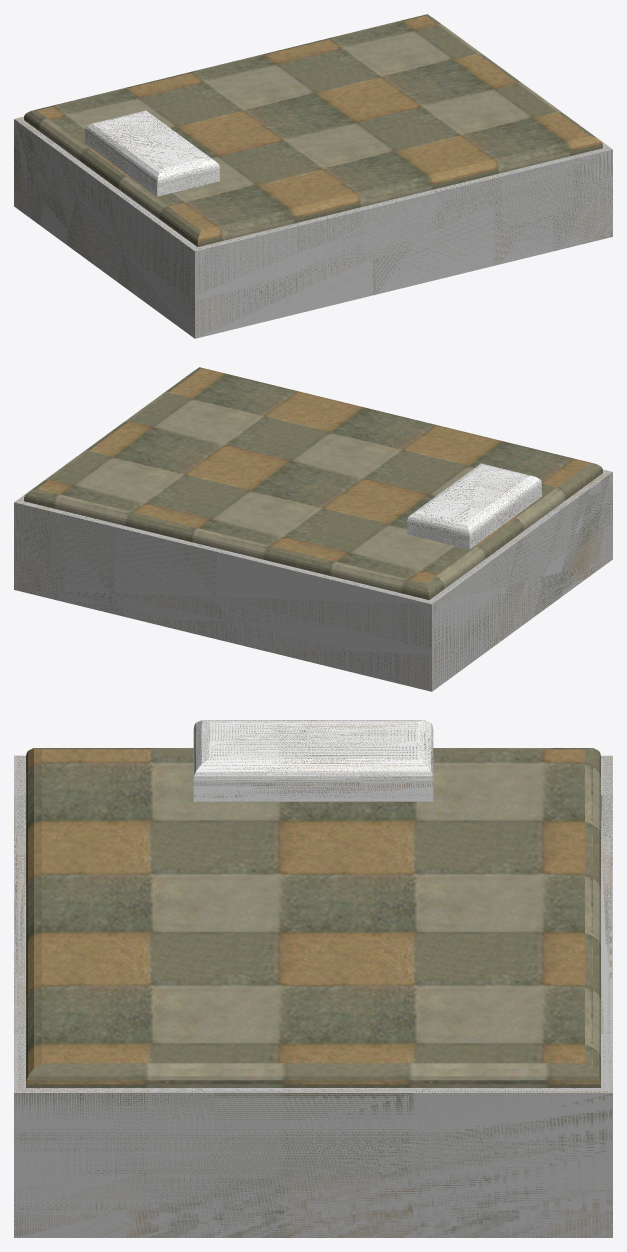
File: bed.dae
3 views of the same model, one above another, from view 1: azimuth 30°, elevation 25°; view 2: azimuth 150°, elevation 25°; view 3: azimuth 270°, elevation 25° (orthographic). The views are drawn at different scales.
Visible parts, largest first — view 1: SketchUp (×3); view 2: SketchUp (×3); view 3: SketchUp (×3).
Part boxes in pixels (x1,y1,x2,y2): SketchUp (×3): (14, 14, 612, 338); SketchUp (×3): (14, 367, 612, 691); SketchUp (×3): (14, 720, 612, 1237).
Size of the model in its own units: 78.74 by 59.06 by 21.65.
